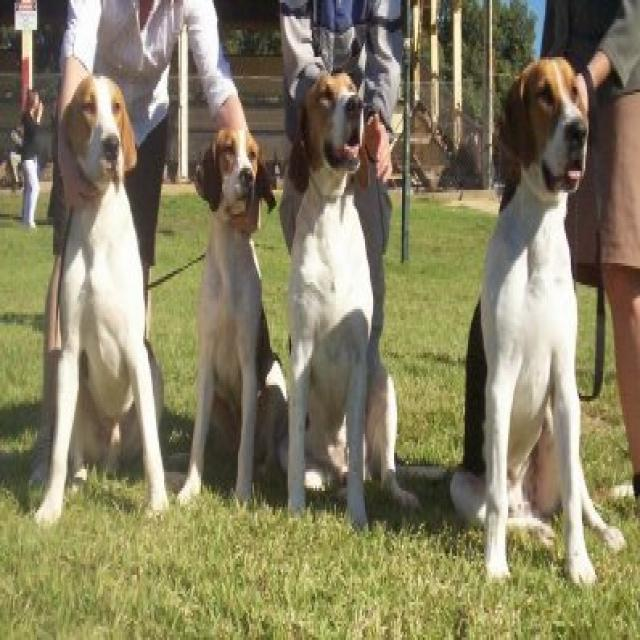sitting: (449, 52, 627, 592), (32, 70, 170, 536), (282, 69, 419, 537), (173, 127, 286, 516)
